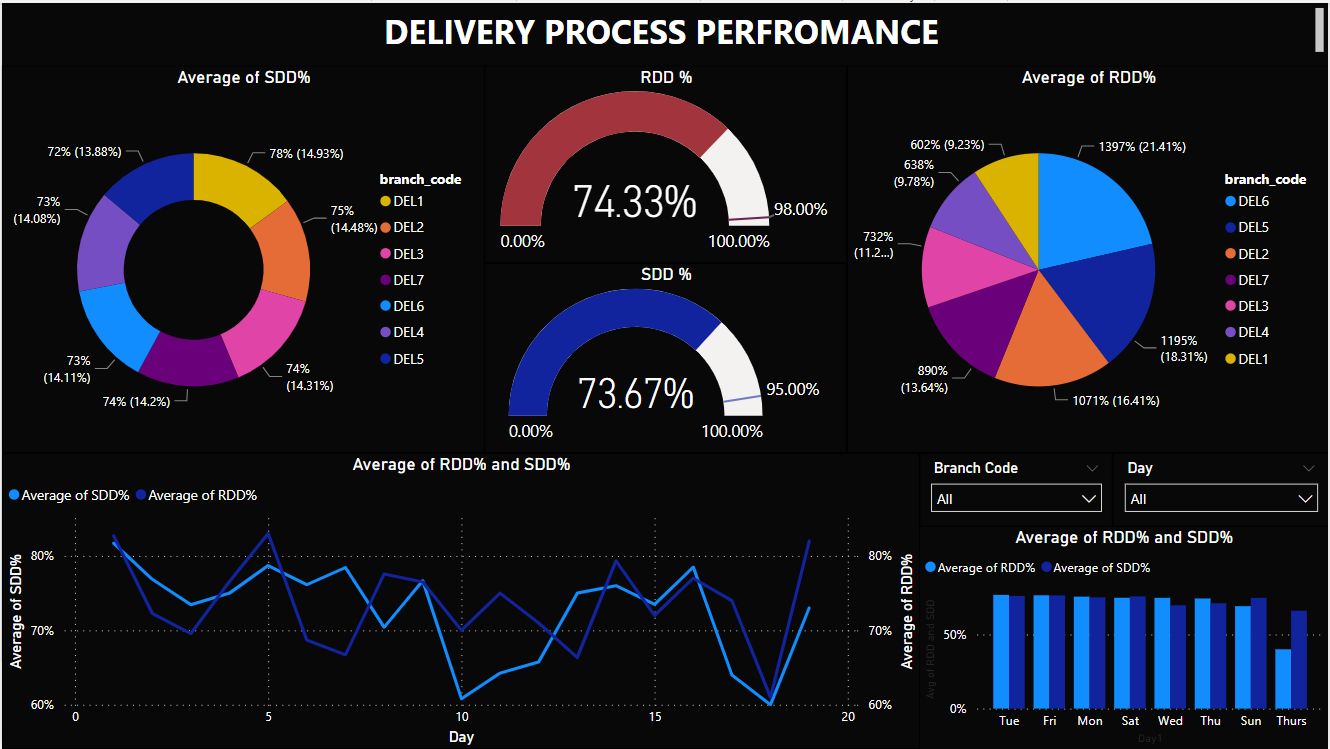

This screenshot's page, from the dashboard's own definition file:
{"tool":"powerbi","page":{"name":"Process Performance","canvas":[1280,720],"ordinal":0},"visuals":[{"type":"textbox","box":[0,0,1280.3,60.4],"z":0},{"type":"donutChart","title":"Average of SDD% ","fields":{"Category":["delhi_delivery_data_.branch_code"],"Y":["Avg(delhi_delivery_data_.SDD%)"]},"box":[0,60.3,465.5,373.9],"z":1000},{"type":"pieChart","title":"Average of RDD% ","fields":{"Category":["delhi_delivery_data_.branch_code"],"Y":["Sum(delhi_delivery_data_.RDD%)"]},"box":[815.3,60.3,465.5,373.9],"z":2000},{"type":"gauge","title":"RDD %","fields":{"Y":["Sum(delhi_delivery_data_.Total_rdd)"]},"box":[465.5,60.3,349.7,190.6],"z":3000},{"type":"gauge","title":"SDD %","fields":{"Y":["Sum(delhi_delivery_data_.Total_sdd)"]},"box":[465.5,250.9,349.7,183.3],"z":4000},{"type":"lineChart","title":"Average of RDD% and SDD% ","fields":{"Category":["delhi_delivery_data_.date.Variation.Date Hierarchy.Day"],"Y":["Avg(delhi_delivery_data_.SDD%)"],"Y2":["Avg(delhi_delivery_data_.RDD%)"]},"box":[0,434.2,885.2,285.8],"z":5000},{"type":"slicer","fields":{"Values":["delhi_delivery_data_.branch_code"]},"box":[885.1,433.6,186.6,71.4],"z":6000},{"type":"slicer","fields":{"Values":["delhi_delivery_data_.Day"]},"box":[1071.7,433.6,208.6,71.4],"z":7000},{"type":"clusteredColumnChart","title":"Average of RDD% and SDD% ","fields":{"Category":["delhi_delivery_data_.Day1"],"Y":["Avg(delhi_delivery_data_.RDD%)","Avg(delhi_delivery_data_.SDD%)"]},"box":[885.1,505,395.2,215.4],"z":8000}]}

Visuals, with their boxes in screenshot pixels (x1, y1, x2, y2), scaled from the page's 1280x720 canvas onto the 1330x749 screenshot:
textbox: 0, 0, 1329, 63
"Average of SDD% " donutChart: 0, 63, 484, 452
"Average of RDD% " pieChart: 847, 63, 1329, 452
"RDD %" gauge: 484, 63, 847, 261
"SDD %" gauge: 484, 261, 847, 452
"Average of RDD% and SDD% " lineChart: 0, 452, 920, 748
slicer - delhi_delivery_data_.branch_code: 920, 451, 1114, 525
slicer - delhi_delivery_data_.Day: 1114, 451, 1329, 525
"Average of RDD% and SDD% " clusteredColumnChart: 920, 525, 1329, 748
